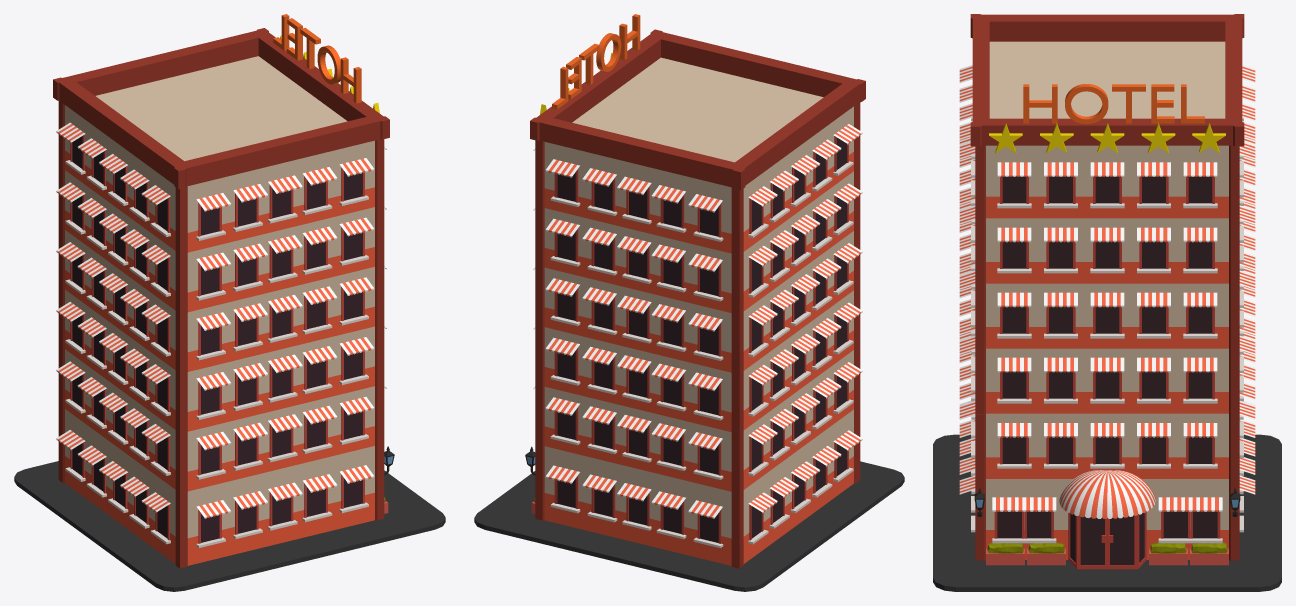
File: hotel (2x2).fbx
3 views of the same model, side by side, from view 1: azimuth 30°, elevation 25°; view 2: azimuth 150°, elevation 25°; view 3: azimuth 270°, elevation 25° (orthographic). The views are drawn at different scales.
Parts seen in each view (by area): view 1: PublicBuilding_1; view 2: PublicBuilding_1; view 3: PublicBuilding_1.
Part boxes in pixels (x1,y1,x2,y2): PublicBuilding_1: (14, 14, 445, 591); PublicBuilding_1: (474, 14, 904, 591); PublicBuilding_1: (933, 14, 1281, 591).
Size of the model in its own units: 276 by 404 by 267.
